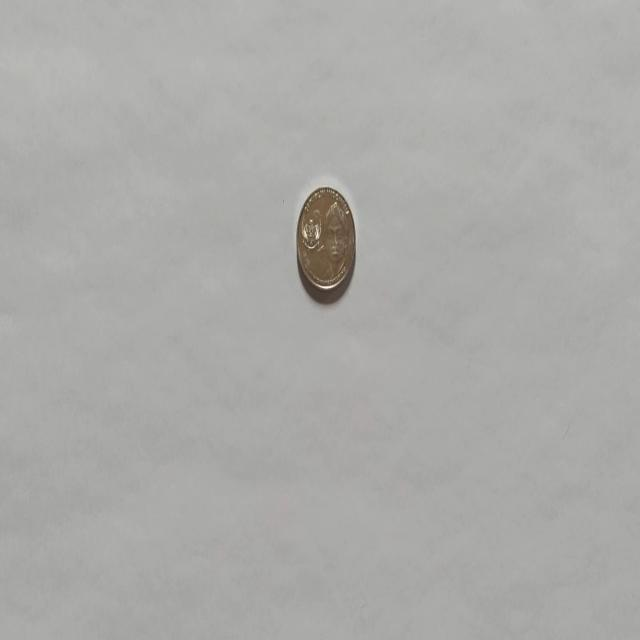dua ratus rupiah: (295, 184, 356, 292)
